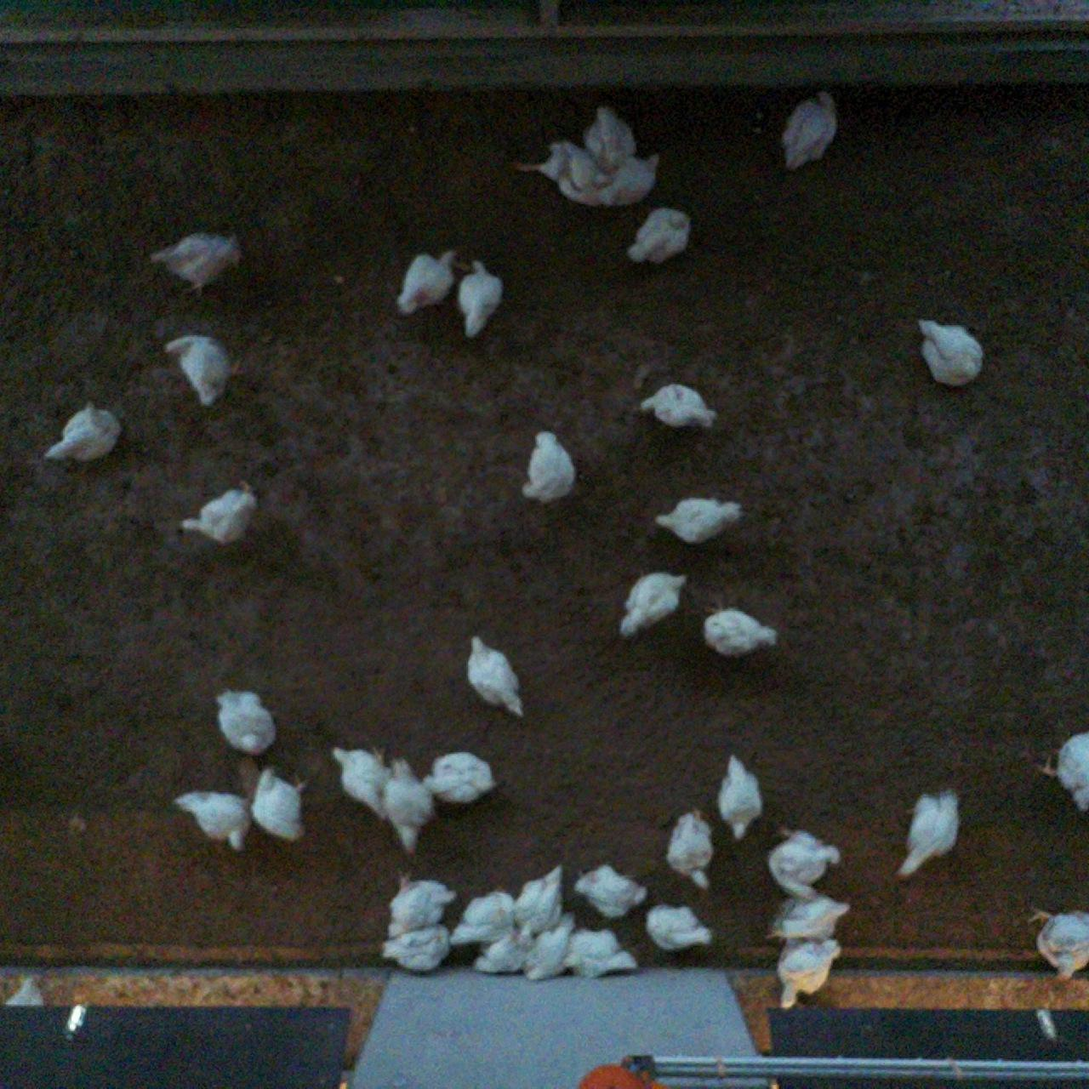chicken: (895, 786, 964, 885), (163, 328, 244, 409), (515, 137, 605, 209), (148, 229, 244, 295), (766, 822, 841, 901), (771, 936, 847, 1013), (778, 86, 844, 174), (1024, 898, 1089, 987), (41, 396, 122, 465), (182, 475, 263, 544), (464, 629, 526, 717), (380, 756, 435, 855), (913, 315, 985, 389), (329, 738, 393, 821), (508, 860, 569, 946), (385, 868, 458, 939), (174, 787, 251, 852), (248, 764, 308, 846), (655, 493, 748, 545), (618, 569, 688, 638), (701, 600, 781, 658), (214, 686, 276, 759), (573, 861, 647, 922), (664, 808, 718, 890), (396, 246, 458, 317), (521, 425, 578, 502), (419, 749, 497, 805), (715, 750, 764, 838), (1039, 727, 1089, 813), (564, 924, 638, 982), (523, 916, 583, 985), (627, 205, 693, 267), (637, 381, 720, 430), (456, 255, 504, 339), (448, 887, 515, 947), (597, 149, 667, 206), (766, 895, 850, 942), (585, 103, 636, 177), (643, 902, 715, 953), (380, 922, 449, 974), (473, 933, 534, 981)
